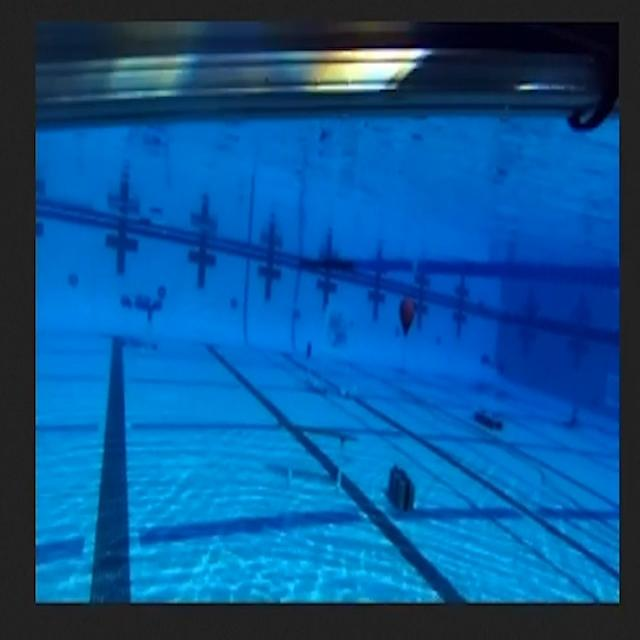Buoy: (392, 285, 423, 362)
